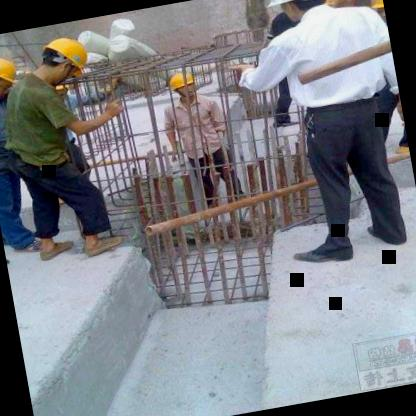helmet: (30, 30, 94, 90), (260, 0, 337, 29), (0, 49, 25, 104), (163, 66, 201, 102), (365, 0, 386, 26)
